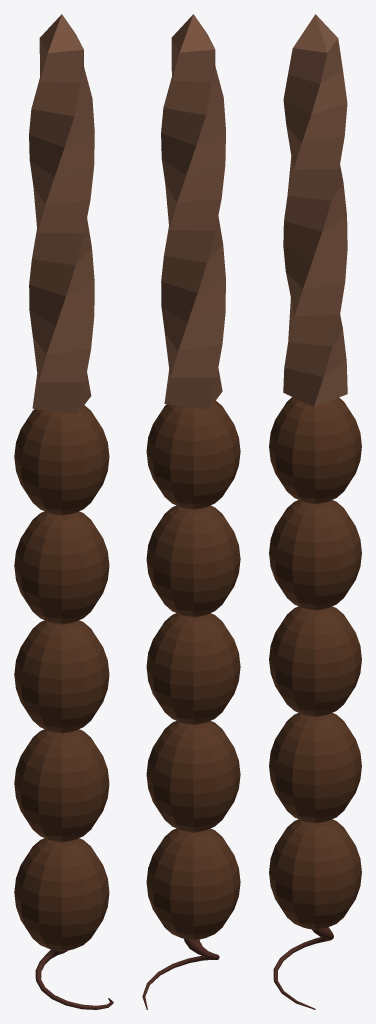
File: Wand 259.glb
3 views of the same model, side by side, from view 1: azimuth 30°, elevation 25°; view 2: azimuth 210°, elevation 25°; view 3: azimuth 270°, elevation 25° (orthographic). The views are drawn at different scales.
Visible parts, largest first — view 1: GeneratedWand; view 2: GeneratedWand; view 3: GeneratedWand.
Boxes of the visible parts, bbox=[...] form: GeneratedWand: bbox=[14, 14, 113, 1009]; GeneratedWand: bbox=[142, 14, 240, 1009]; GeneratedWand: bbox=[269, 14, 361, 1009].
Bounding box in the file's own units: 0.0481 × 0.5187 × 0.0449.
